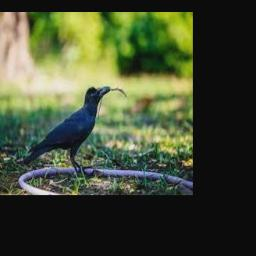Crow: (19, 87, 110, 171)
